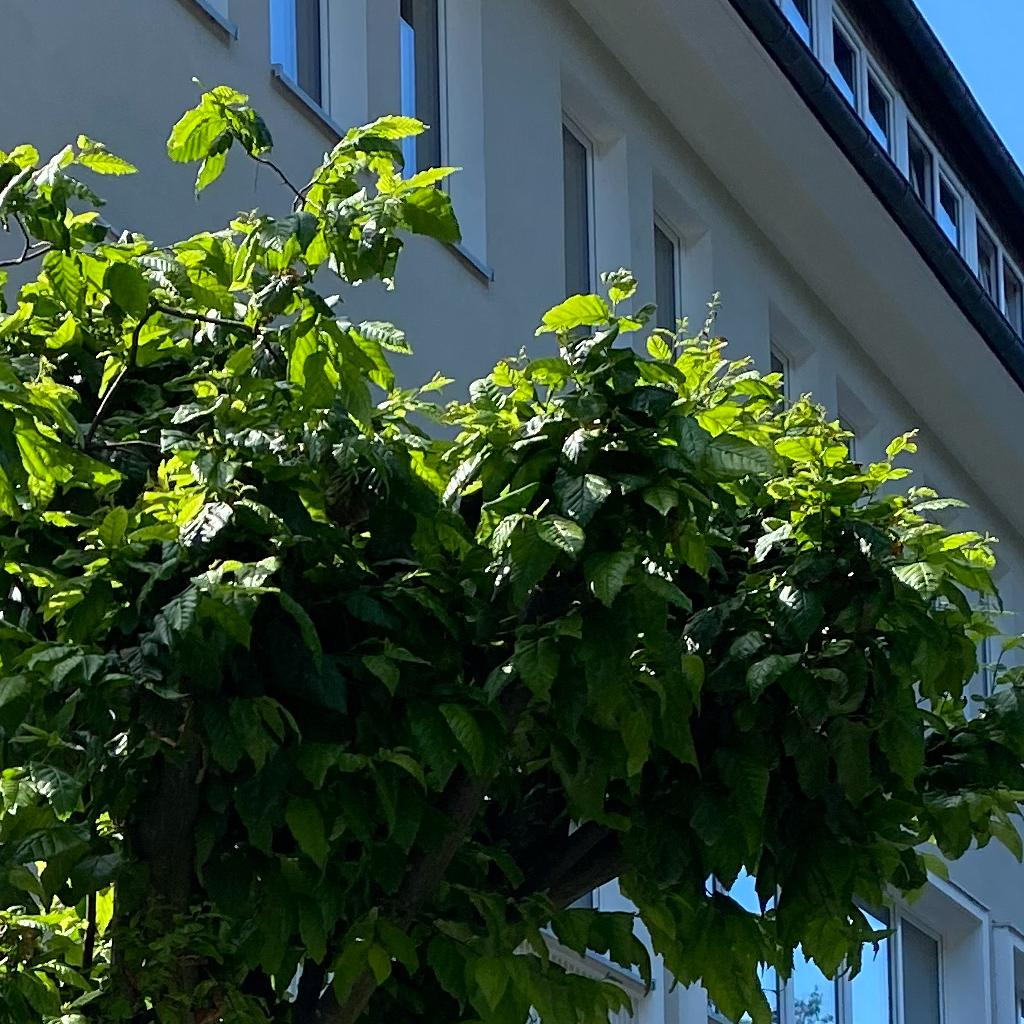tree: (1, 74, 1023, 1023)
